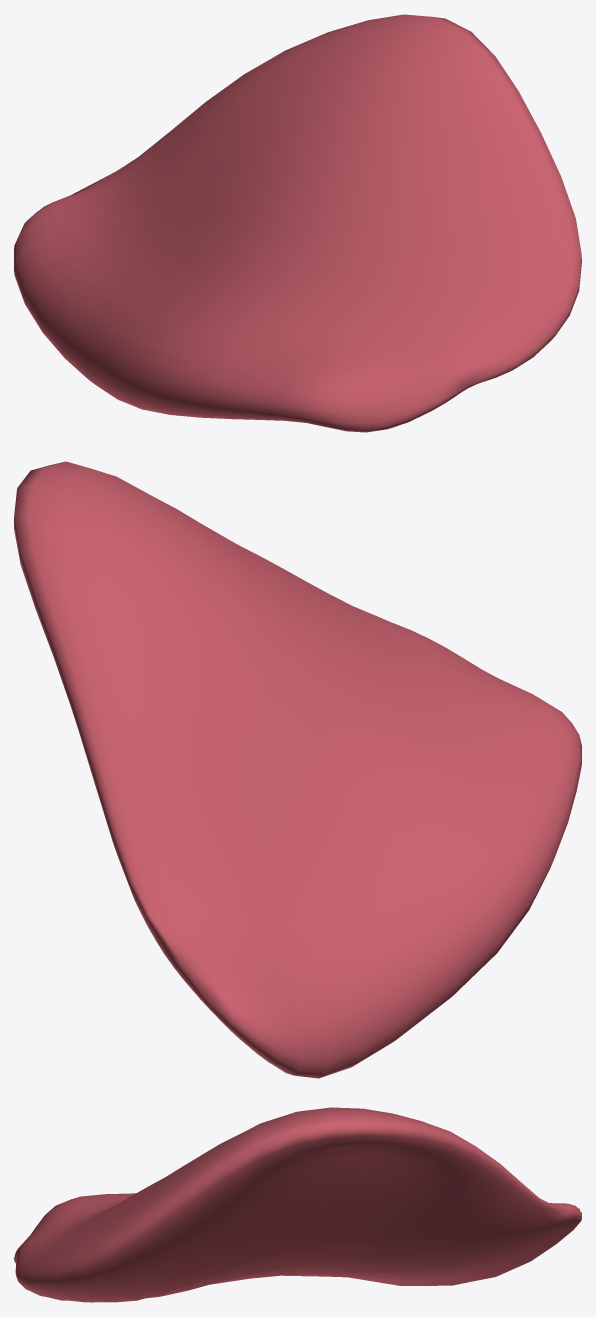
3 views of the same model, one above another, from view 1: azimuth 30°, elevation 25°; view 2: azimuth 150°, elevation 25°; view 3: azimuth 270°, elevation 25° (orthographic). The views are drawn at different scales.
Parts seen in each view (by area): view 1: 右侧臀中肌转子囊; view 2: 右侧臀中肌转子囊; view 3: 右侧臀中肌转子囊.
Part boxes in pixels (bbox=[...]): 右侧臀中肌转子囊: bbox=[14, 14, 581, 432]; 右侧臀中肌转子囊: bbox=[14, 461, 581, 1078]; 右侧臀中肌转子囊: bbox=[14, 1107, 581, 1302].
Bounding box in the file's own units: 0.0228 × 0.0194 × 0.0328.
